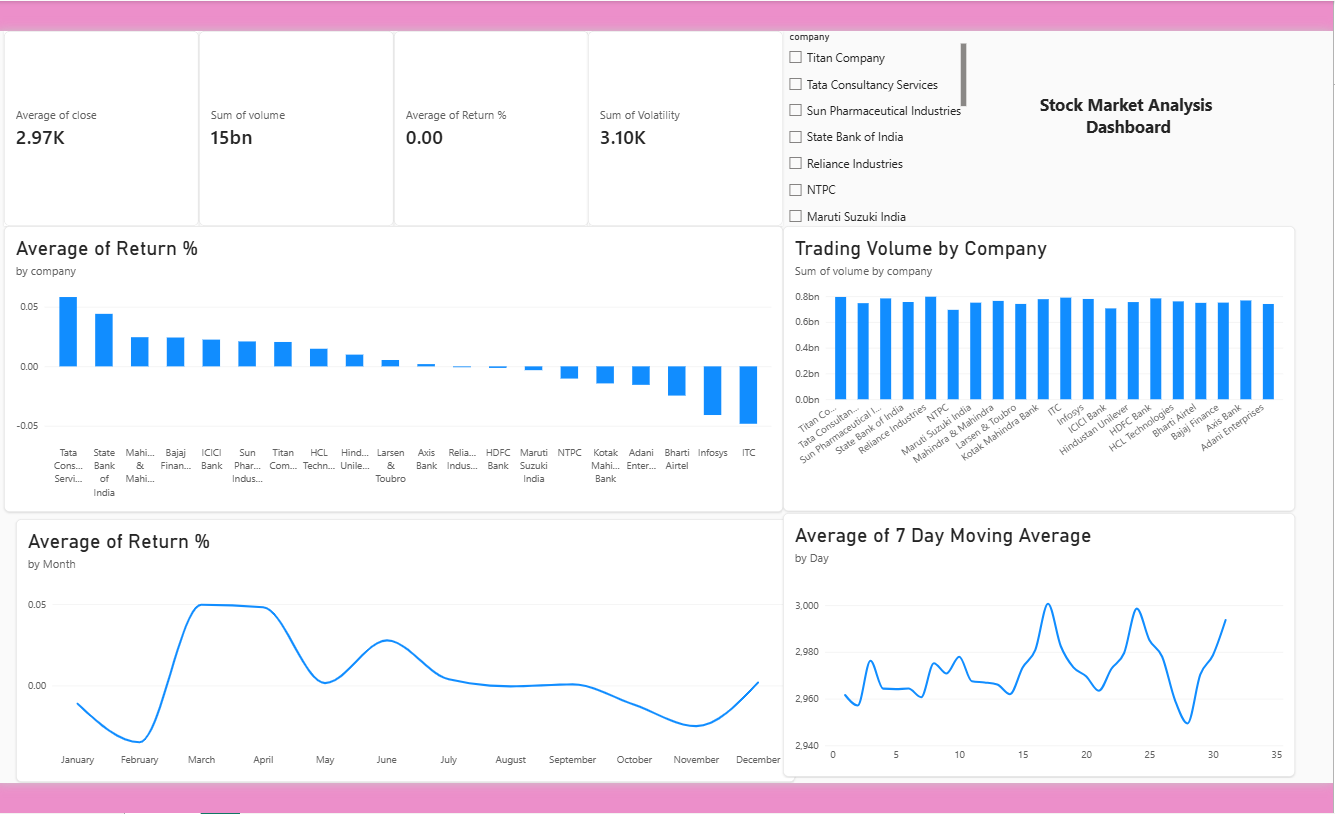

This screenshot's page, from the dashboard's own definition file:
{"tool":"powerbi","page":{"name":"stock_market_dashboard.pbix","canvas":[1920,1080],"ordinal":0},"visuals":[{"type":"cardVisual","fields":{"Data":["Avg(stock_market_analyst_dataset.close)"]},"box":[10,0,280,280],"z":0},{"type":"cardVisual","fields":{"Data":["Sum(stock_market_analyst_dataset.volume)"]},"box":[290.3,0,280,280],"z":1000},{"type":"cardVisual","fields":{"Data":["Avg(stock_market_analyst_dataset.Return %)"]},"box":[570.5,0,280.1,280.1],"z":2000},{"type":"cardVisual","fields":{"Data":["Sum(stock_market_analyst_dataset.Volatility)"]},"box":[850,0,280,280],"z":3000},{"type":"clusteredColumnChart","fields":{"Category":["stock_market_analyst_dataset.company"],"Y":["Avg(stock_market_analyst_dataset.Return %)"]},"box":[10.2,280.1,1120.5,411.4],"z":4000},{"type":"lineChart","fields":{"Y":["Avg(stock_market_analyst_dataset.Return %)"],"Category":["stock_market_analyst_dataset.date.Variation.Date Hierarchy.Month"]},"box":[28,702,1120,378],"z":5000},{"type":"clusteredColumnChart","title":"Trading Volume by Company","fields":{"Category":["stock_market_analyst_dataset.company"],"Y":["Sum(stock_market_analyst_dataset.volume)"]},"box":[1130,280,735.7,410],"z":6000},{"type":"lineChart","fields":{"Y":["Avg(stock_market_analyst_dataset.7 Day Moving Average)"],"Category":["stock_market_analyst_dataset.date.Variation.Date Hierarchy.Day"]},"box":[1130,692,736,379],"z":7000},{"type":"slicer","fields":{"Values":["stock_market_analyst_dataset.company"]},"box":[1131,0,261.6,280.2],"z":8000},{"type":"textbox","box":[1393,0,473,280],"z":9000}]}

Visuals, with their boxes on the page's 1920x1080 design canvas (x1, y1, x2, y2). These are canvas units, not pixel positions in the 1335x814 screenshot, which may show the page scaled, cropped or inside an application window:
cardVisual - Avg(stock_market_analyst_dataset.close): locate(10, 0, 290, 280)
cardVisual - Sum(stock_market_analyst_dataset.volume): locate(290, 0, 570, 280)
cardVisual - Avg(stock_market_analyst_dataset.Return %): locate(570, 0, 851, 280)
cardVisual - Sum(stock_market_analyst_dataset.Volatility): locate(850, 0, 1130, 280)
clusteredColumnChart - stock_market_analyst_dataset.company x Avg(stock_market_analyst_dataset.Return %): locate(10, 280, 1131, 692)
lineChart - Avg(stock_market_analyst_dataset.Return %) x stock_market_analyst_dataset.date.Variation.Date Hierarchy.Month: locate(28, 702, 1148, 1080)
"Trading Volume by Company" clusteredColumnChart: locate(1130, 280, 1866, 690)
lineChart - Avg(stock_market_analyst_dataset.7 Day Moving Average) x stock_market_analyst_dataset.date.Variation.Date Hierarchy.Day: locate(1130, 692, 1866, 1071)
slicer - stock_market_analyst_dataset.company: locate(1131, 0, 1393, 280)
textbox: locate(1393, 0, 1866, 280)
